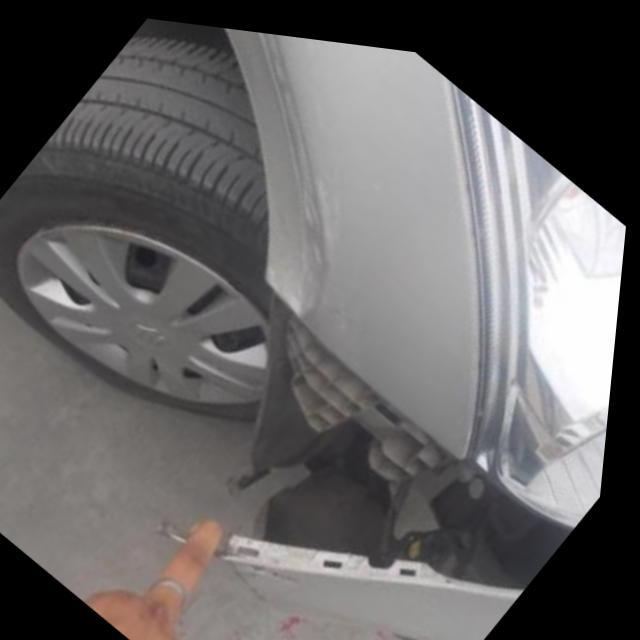dislocated part: (172, 275, 585, 582)
